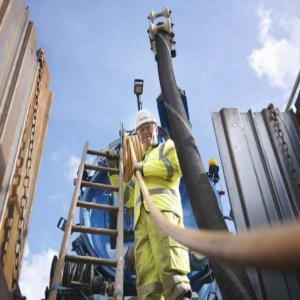white: (136, 107, 160, 148)
